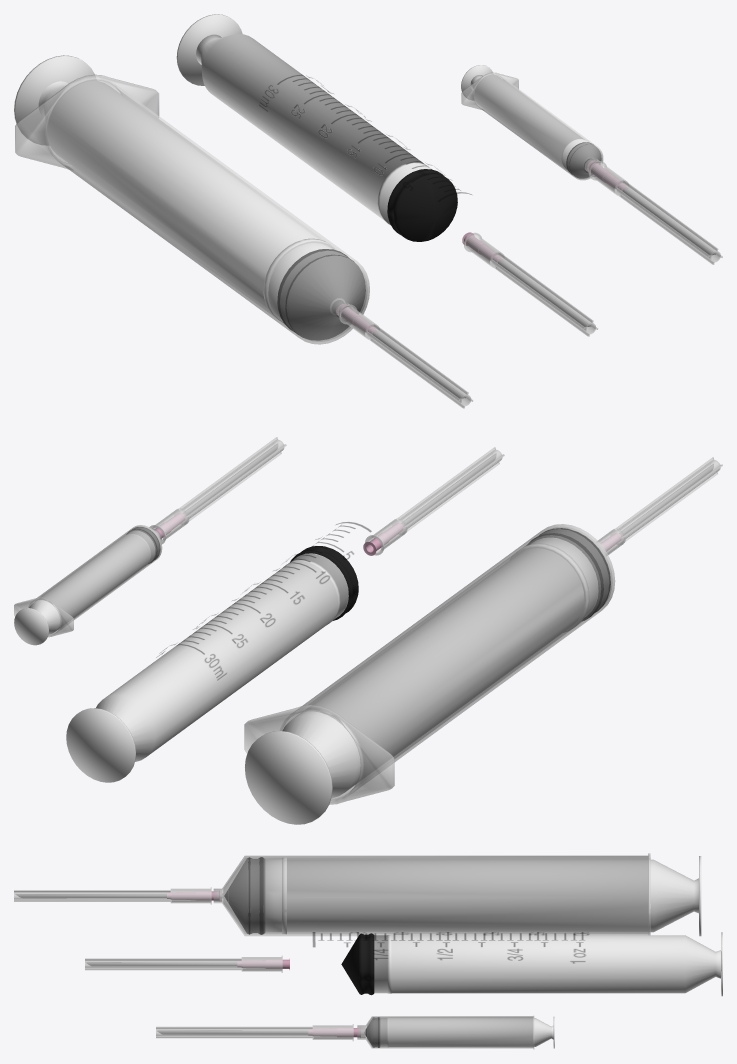
Rendered from ExportedBlenderFBXFile.fbx.
3 renders of one model, top to bottom at view 1: azimuth 30°, elevation 25°; view 2: azimuth 150°, elevation 25°; view 3: azimuth 270°, elevation 25°, orthographic. The views are drawn at different scales.
Parts seen in each view (by area): view 1: Barrel_60ml, Plunger_60ml, Plunger_30ml, Barrel_3ml, Plunger_3ml, Cap_60, Cap_3, Cap_30, Barrel_30ml, Needle_30, Needle_3, Needle_60; view 2: Plunger_60ml, Barrel_60ml, Plunger_30ml, Plunger_3ml, Barrel_3ml, Cap_30, Cap_3, Cap_60, Barrel_30ml, Needle_30, Needle_3, Needle_60; view 3: Barrel_60ml, Plunger_60ml, Plunger_30ml, Barrel_3ml, Plunger_3ml, Cap_3, Cap_30, Cap_60, Barrel_30ml, Needle_3, Needle_60, Needle_30.
Part boxes in pixels (x1,y1,x2,y2): Barrel_60ml: [15, 74, 369, 344]; Plunger_60ml: [14, 55, 365, 340]; Plunger_30ml: [176, 14, 457, 241]; Barrel_3ml: [461, 72, 603, 180]; Plunger_3ml: [461, 65, 601, 178]; Cap_60: [339, 304, 472, 408]; Cap_3: [588, 161, 722, 264]; Cap_30: [464, 232, 597, 336]; Barrel_30ml: [259, 75, 471, 201]; Needle_30: [462, 232, 590, 326]; Needle_3: [587, 160, 715, 255]; Needle_60: [337, 304, 465, 398]; Plunger_60ml: [245, 528, 610, 824]; Barrel_60ml: [244, 524, 615, 804]; Plunger_30ml: [66, 546, 358, 782]; Plunger_3ml: [14, 527, 160, 645]; Barrel_3ml: [14, 525, 162, 637]; Cap_30: [365, 447, 504, 555]; Cap_3: [149, 437, 286, 544]; Cap_60: [596, 457, 722, 555]; Barrel_30ml: [156, 522, 371, 680]; Needle_30: [363, 453, 496, 555]; Needle_3: [154, 443, 277, 538]; Needle_60: [600, 464, 713, 551]; Barrel_60ml: [213, 853, 650, 936]; Plunger_60ml: [224, 856, 701, 936]; Plunger_30ml: [341, 932, 722, 996]; Barrel_3ml: [357, 1016, 534, 1049]; Plunger_3ml: [365, 1016, 554, 1048]; Cap_3: [156, 1024, 353, 1040]; Cap_30: [85, 956, 282, 972]; Cap_60: [14, 887, 211, 904]; Barrel_30ml: [312, 932, 589, 963]; Needle_3: [157, 1027, 360, 1037]; Needle_60: [15, 891, 219, 900]; Needle_30: [85, 958, 289, 969].
Bounding box in the file's own units: 5.19 × 1.06 × 8.78.
